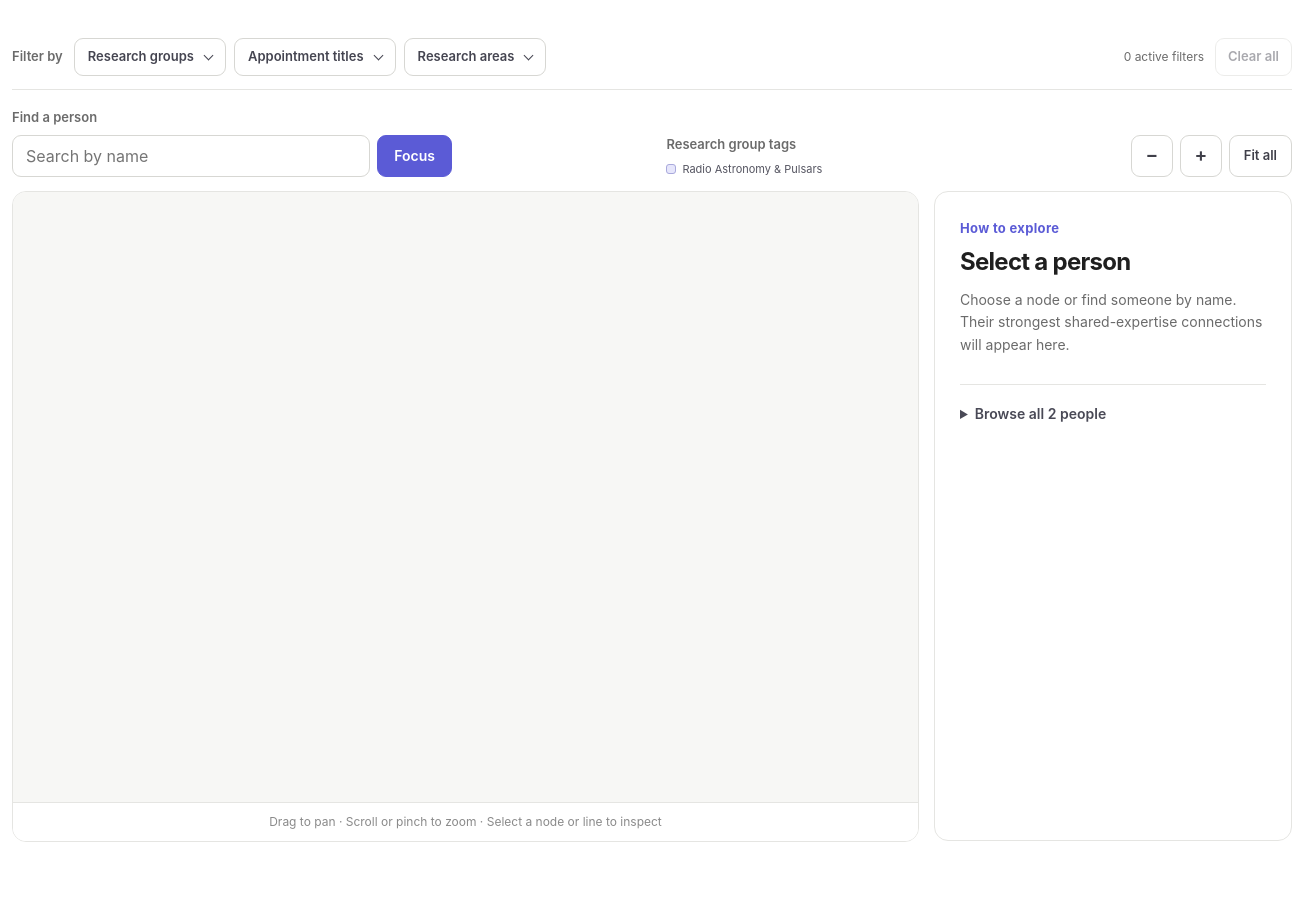
PeopleNetwork › finds a person, shows connections, and navigates between people
The width and height of the screenshot is (1304, 900).
Step 1. Type "Maya" into the search field labelled "Find a person" → (191, 156), box left=12, top=134, right=370, bottom=176
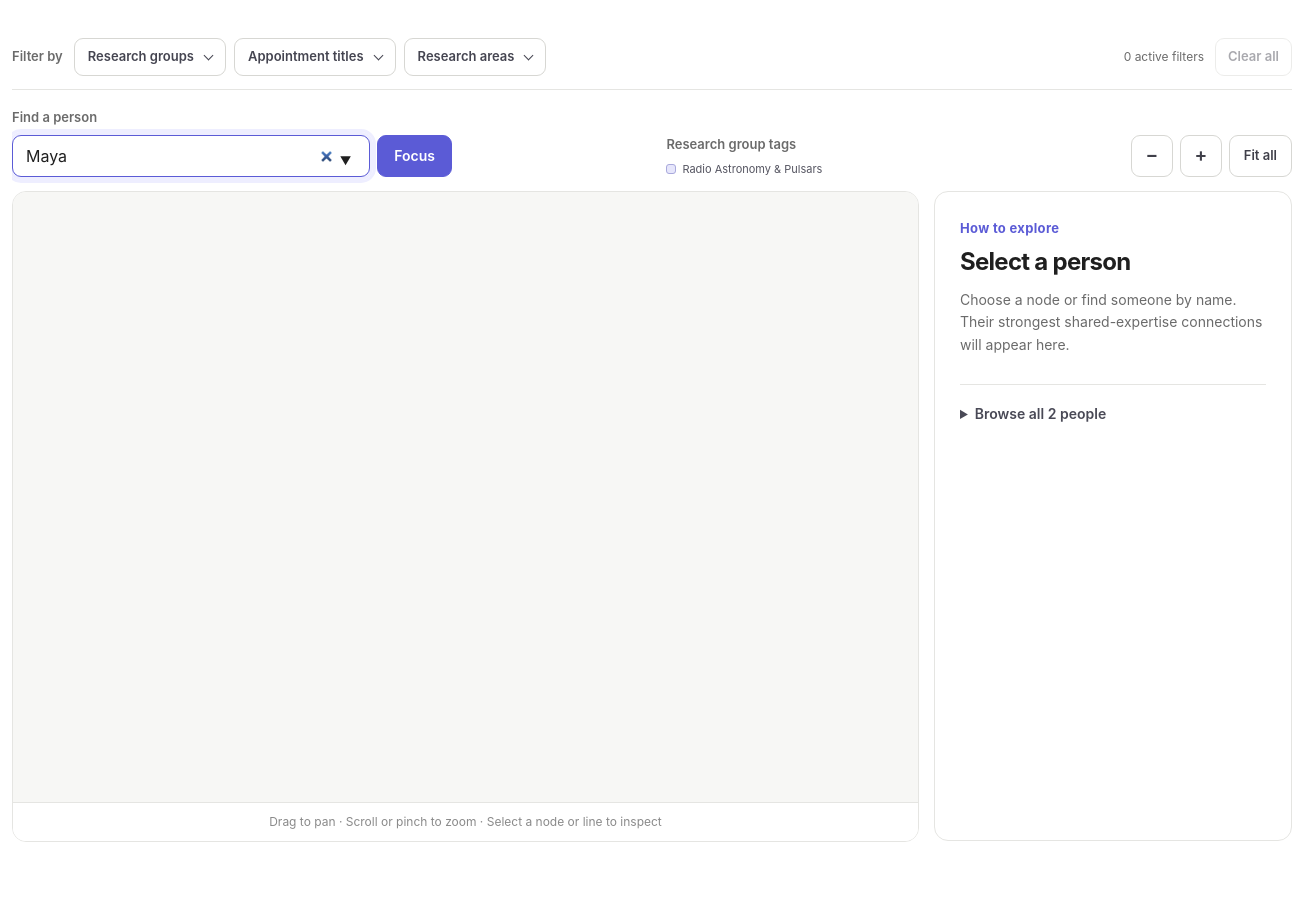
Step 2. Click the button "Focus" → (415, 156), box left=377, top=134, right=452, bottom=176
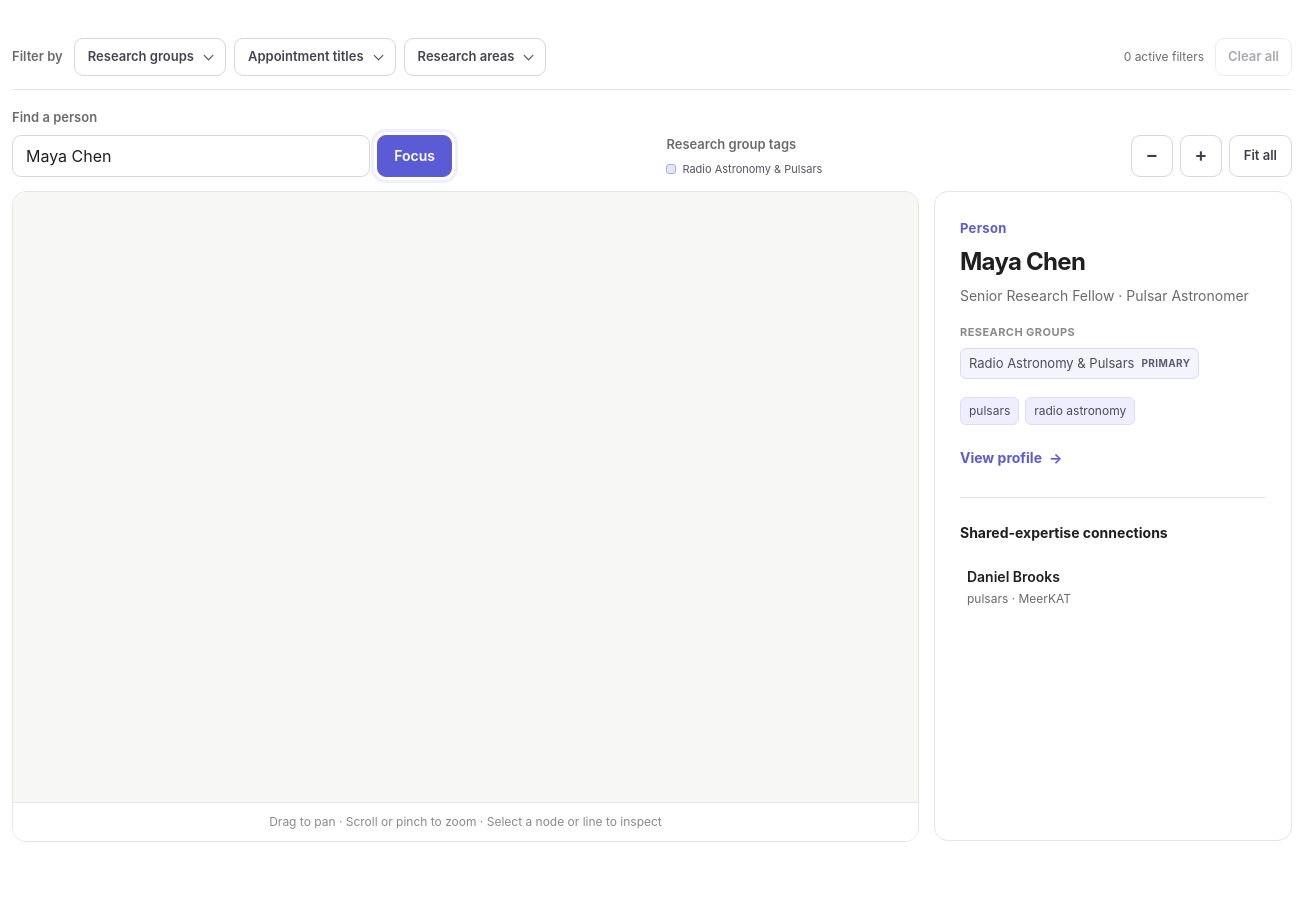
Expected: the heading "Maya Chen" is shown, left=960, top=247, right=1085, bottom=276
Expected: the heading "Research groups" is shown, left=960, top=326, right=1075, bottom=340
Expected: the text "Primary" is shown, left=1141, top=356, right=1190, bottom=371
Step 3. Click the button "Daniel Brooks pulsars · MeerKAT" → (1013, 576), box left=960, top=553, right=1266, bottom=620
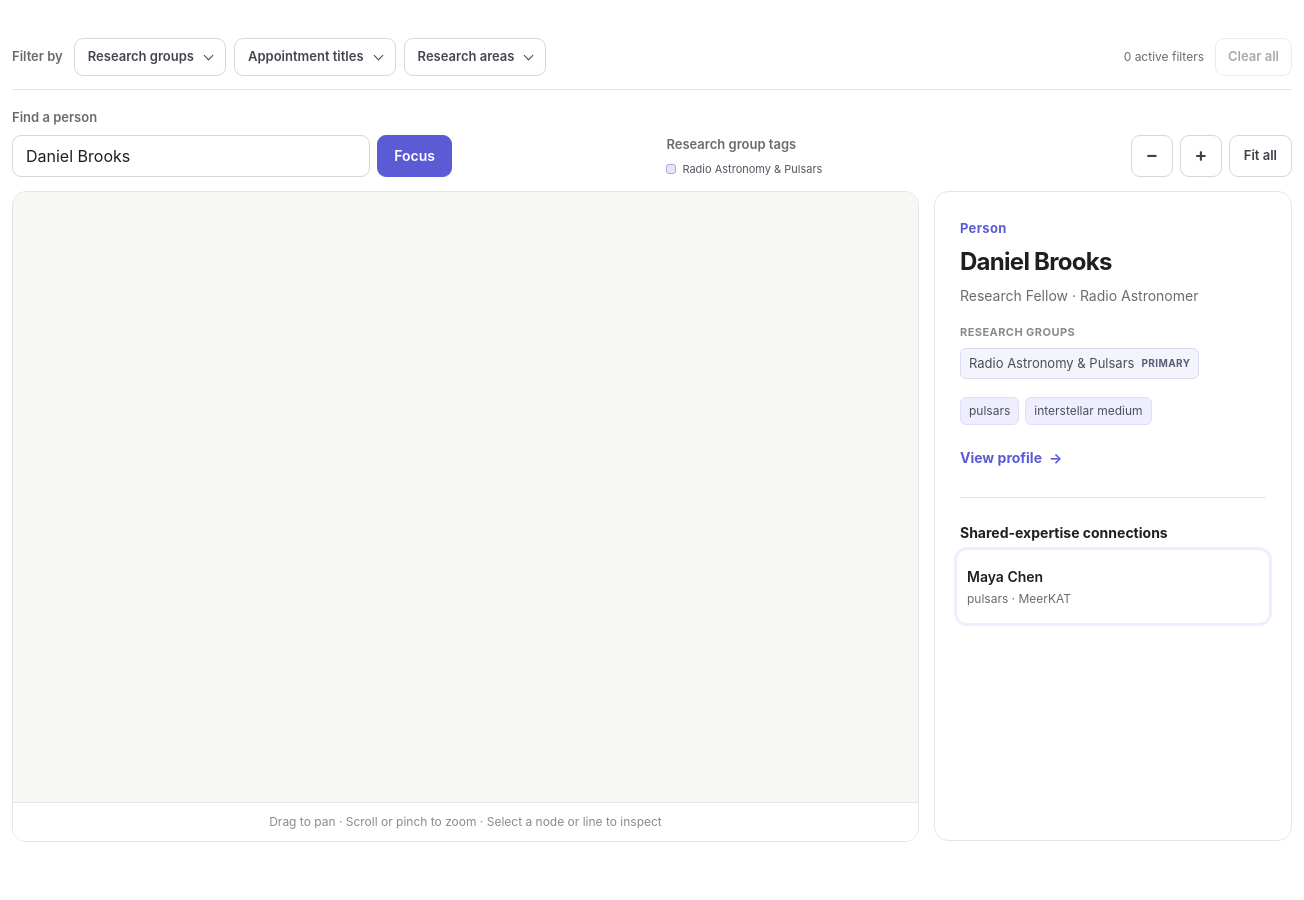
Expected: the heading "Daniel Brooks" is shown, left=960, top=247, right=1112, bottom=276
